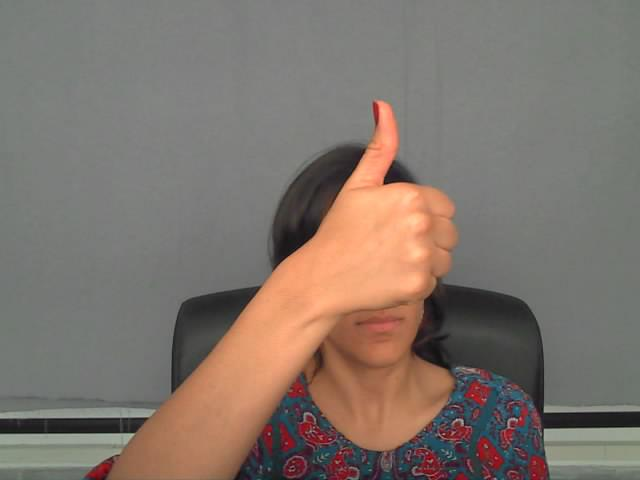thumbs-up: (325, 97, 462, 307)
